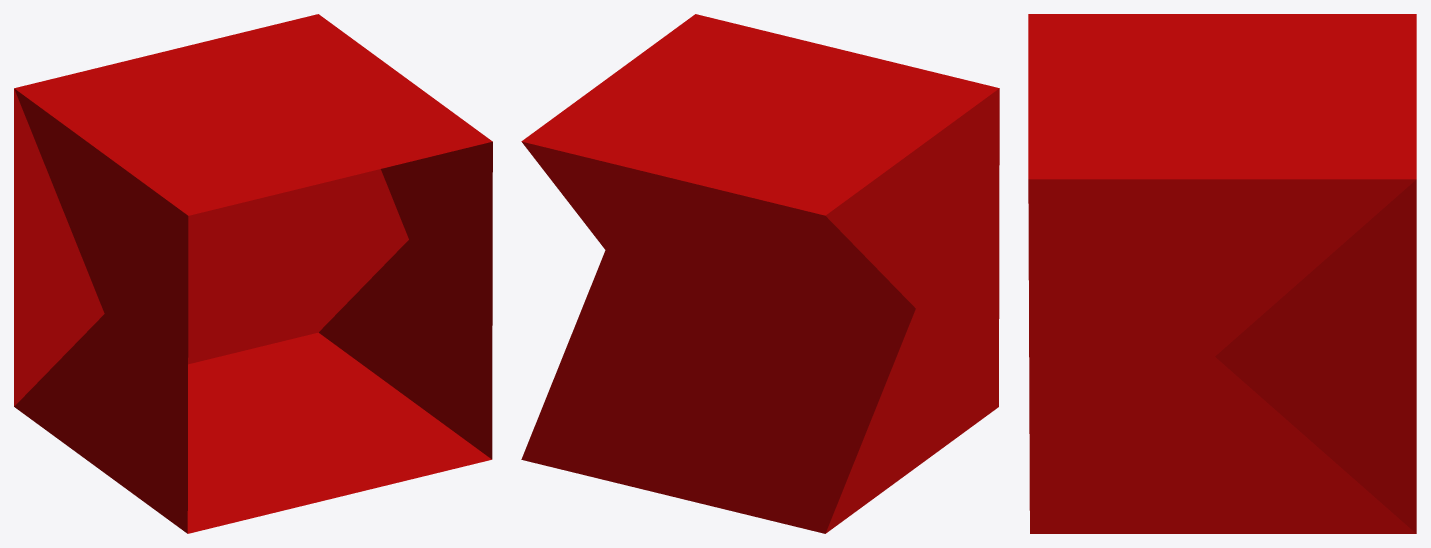
File: AL3_Enemy.obj
3 renders of one model, left to right at view 1: azimuth 30°, elevation 25°; view 2: azimuth 150°, elevation 25°; view 3: azimuth 270°, elevation 25°, orthographic. The views are drawn at different scales.
Visible parts, largest first — view 1: 立方体; view 2: 立方体; view 3: 立方体.
Boxes of the visible parts, <box> form: 立方体: <box>14,14,492,533</box>; 立方体: <box>521,14,999,533</box>; 立方体: <box>1028,14,1416,533</box>.
Bounding box in the file's own units: 2 × 2 × 1.98.
